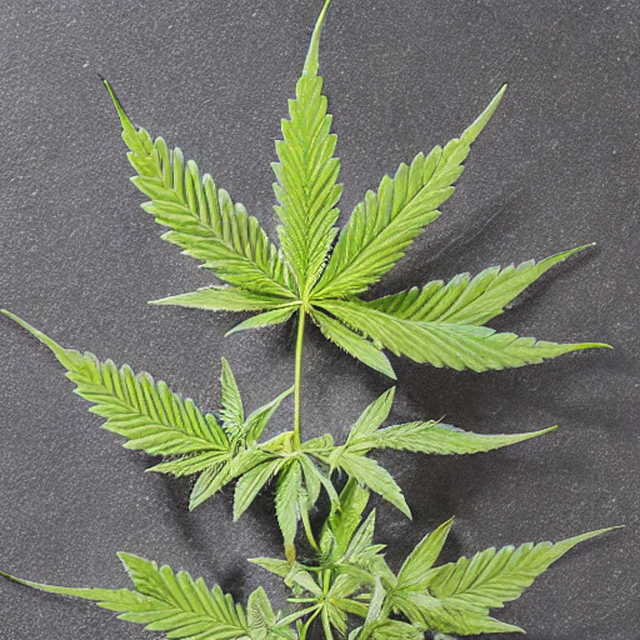Marijuana Plant: (0, 0, 640, 639), (56, 0, 640, 639)
